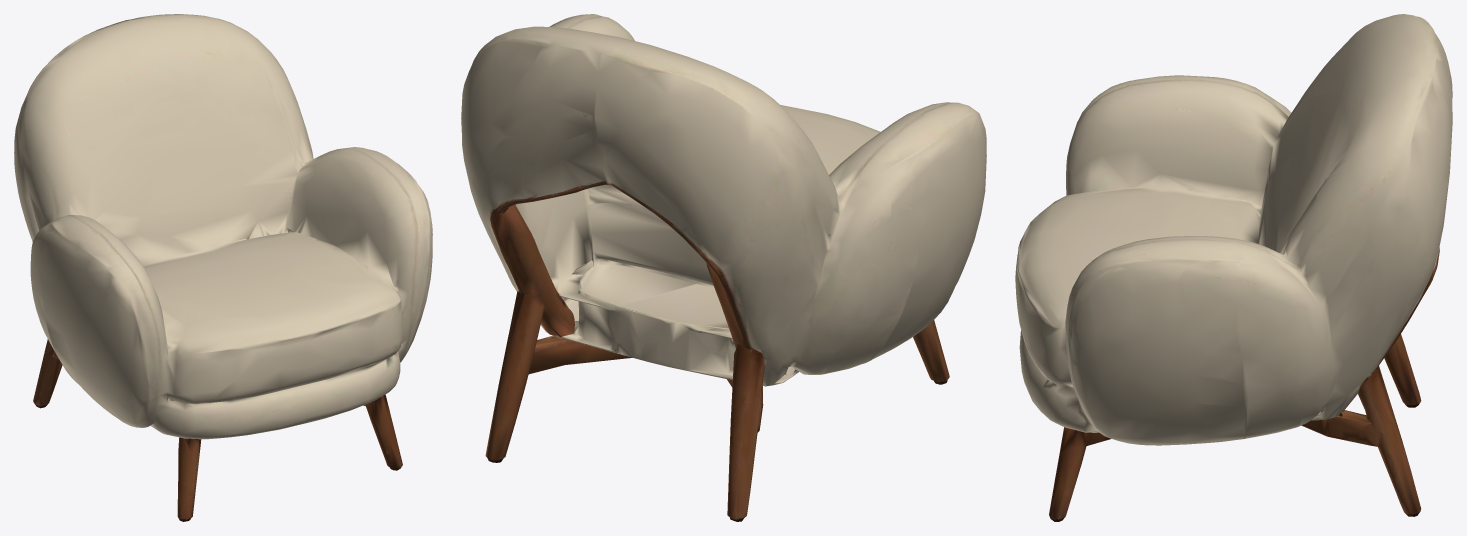
The model's file is 31tFGIVmHS32mOGy0pBb8.glb.
The picture shows the model from 3 angles, left to right: view 1: azimuth 30°, elevation 25°; view 2: azimuth 150°, elevation 25°; view 3: azimuth 270°, elevation 25°; orthographic projection. The views are drawn at different scales.
Parts seen in each view (by area): view 1: geometry_0; view 2: geometry_0; view 3: geometry_0.
Part boxes in pixels (x1,y1,x2,y2): geometry_0: (14, 14, 432, 521); geometry_0: (461, 14, 986, 521); geometry_0: (1015, 14, 1452, 521).
Bounding box in the file's own units: 1 × 1 × 0.9561.
Materials: 1 (1 with a texture image).
